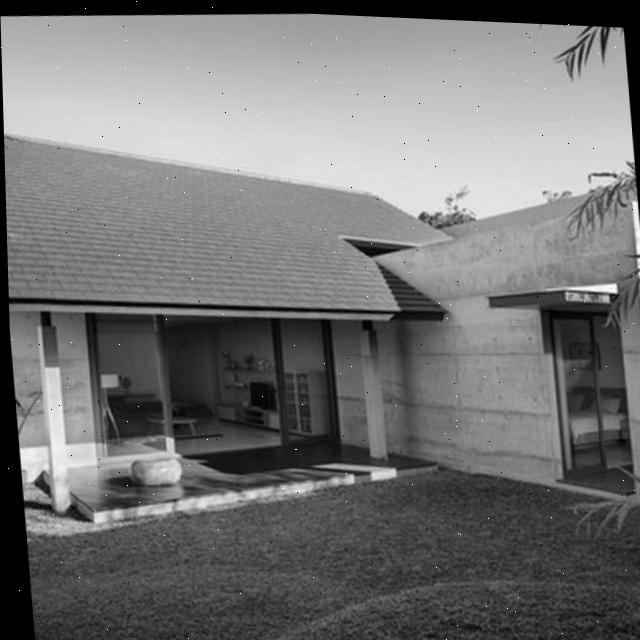building: (3, 93, 640, 533)
